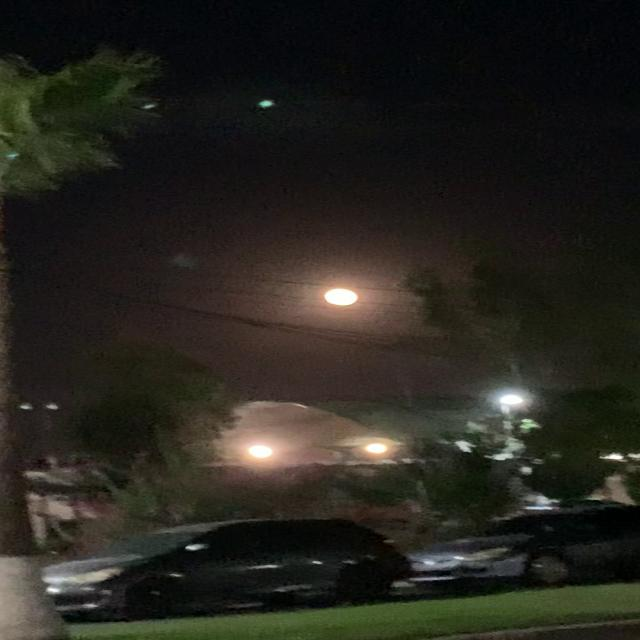moon: (316, 281, 374, 309)
